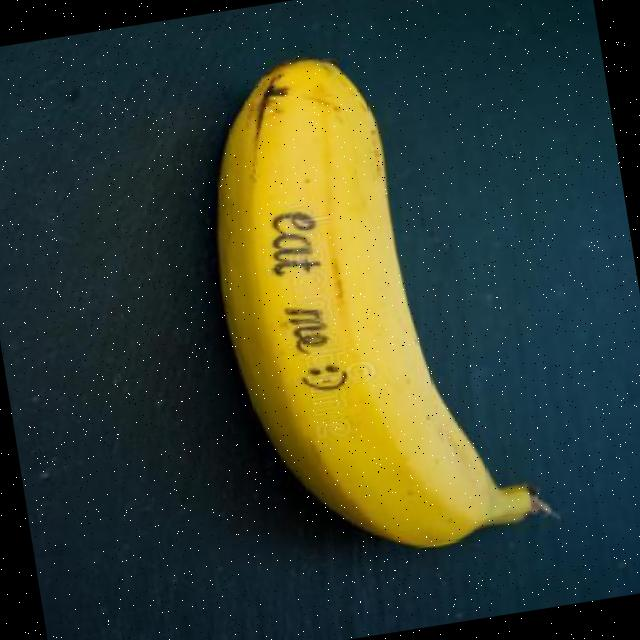banana: (211, 57, 554, 547)
